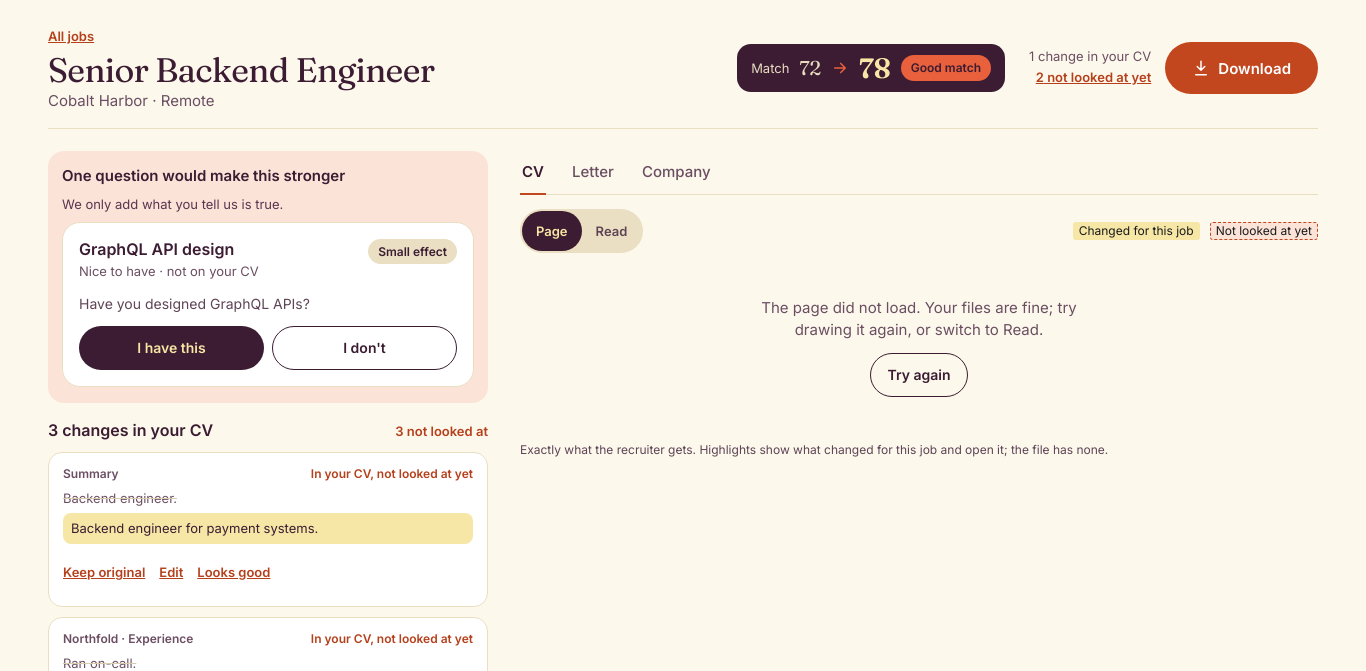
Scenario: questions above the CV › records "I don't" and lets the answer change
Click the button "I don't". click: point(364, 348)
box: [272,326,457,370]
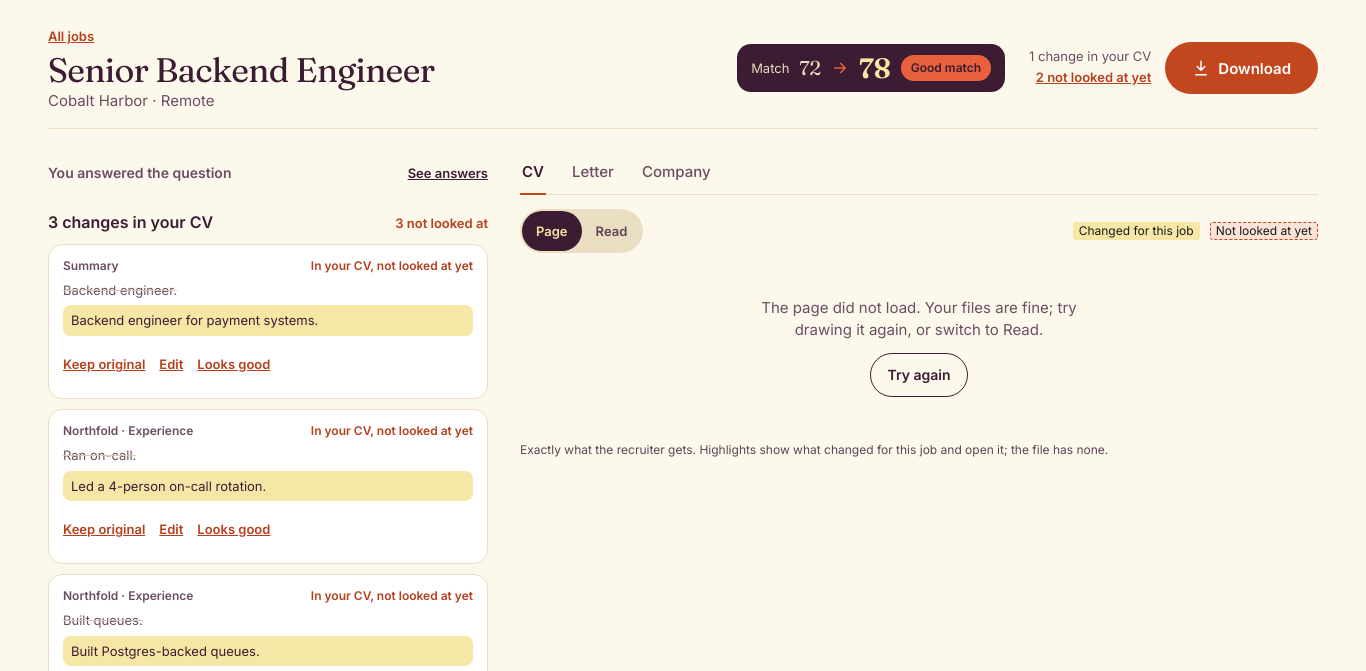
Check: the heading "You answered the question" is shown, box [48,163,232,183]
Click the button "See answers". click: point(448, 173)
box: [408,151,488,195]
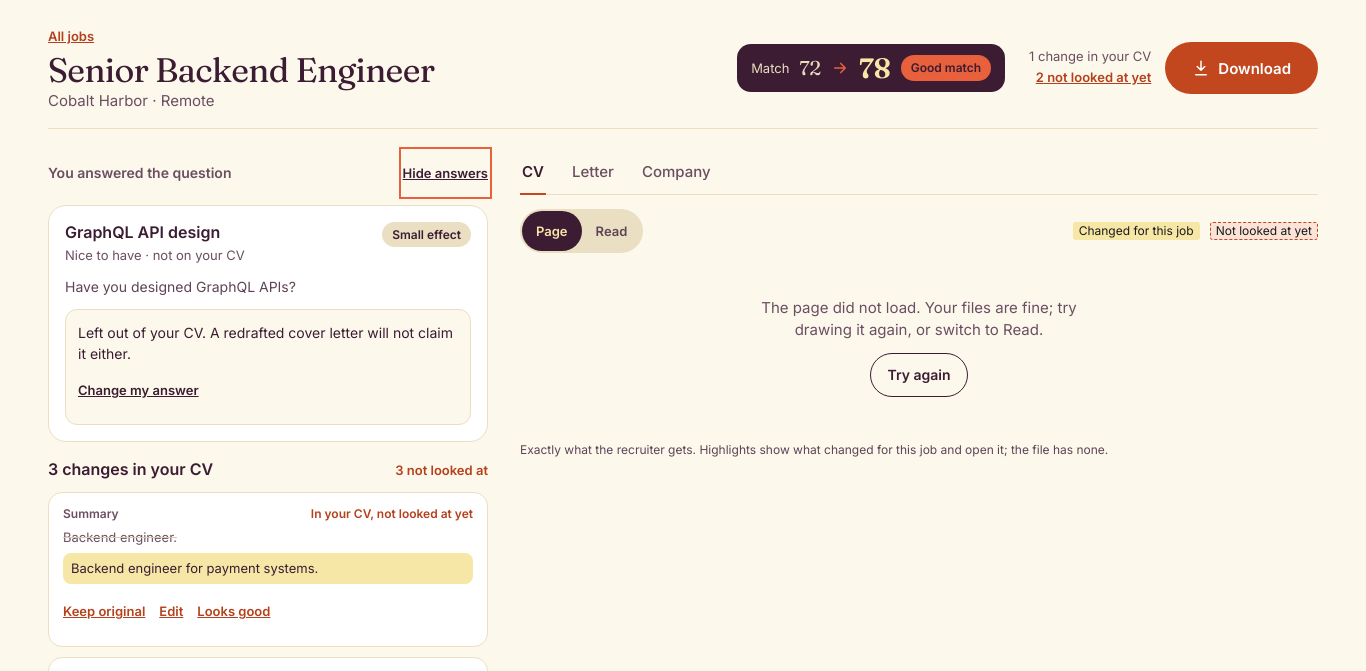
Check: the text "Left out of your CV" is shown, box [78,324,453,362]
Click the button "Change my answer". click: point(138, 390)
box: [78,368,199,412]
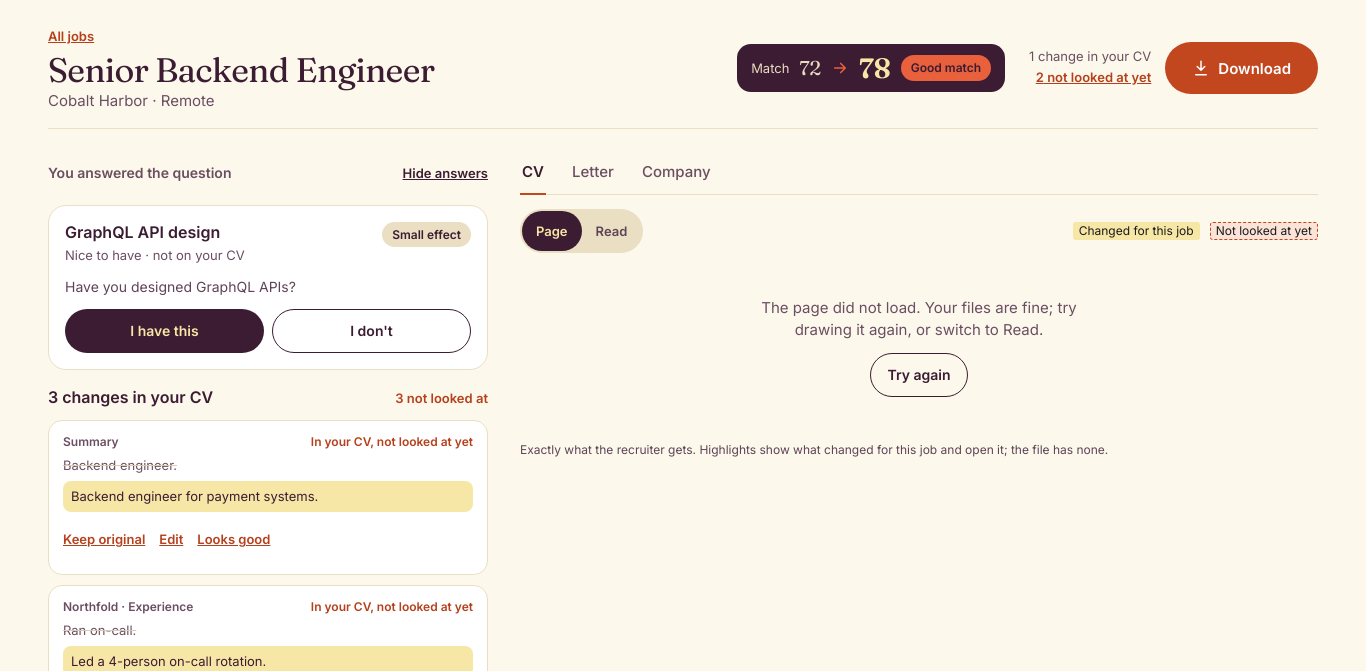
Check: the button "I have this" is shown, box [65,310,264,354]
